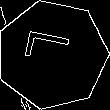L_E: (24, 34, 81, 75)
